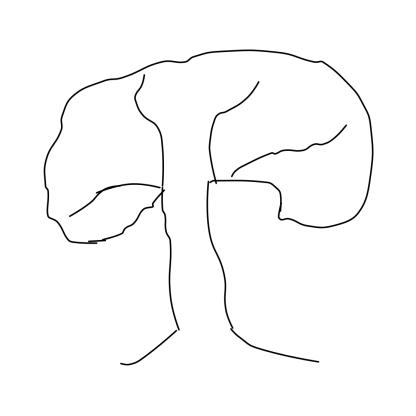crown_mushroom: (42, 47, 372, 244)
trunk_straight: (162, 210, 230, 312)
